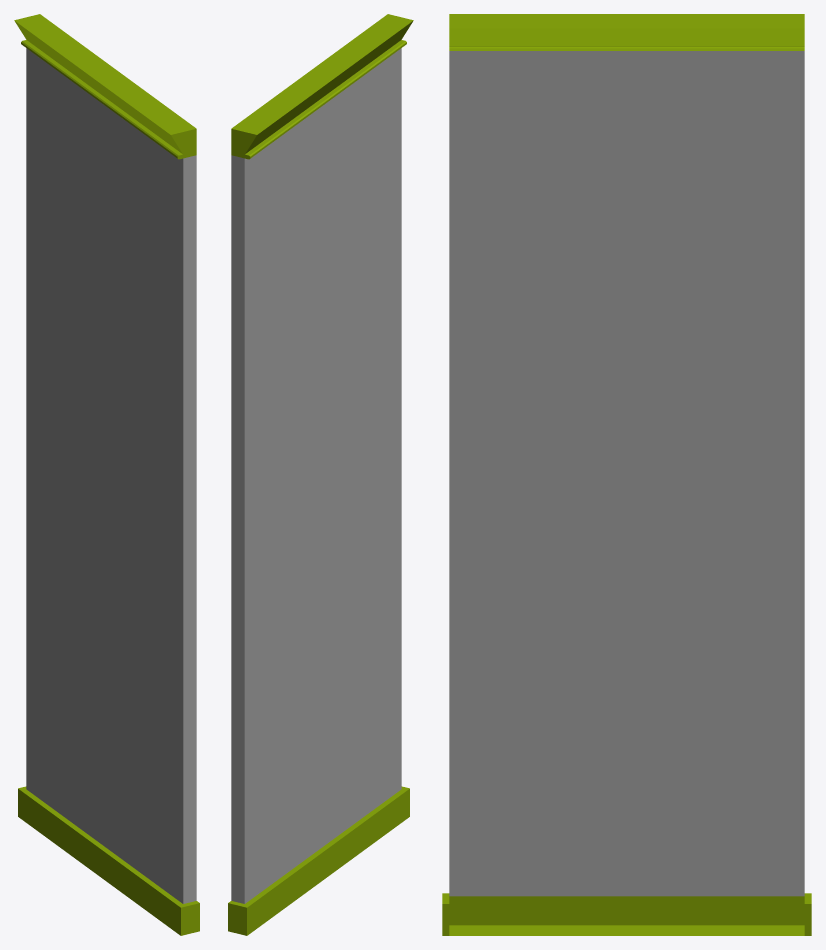
File: Wall_1.fbx
3 views of the same model, side by side, from view 1: azimuth 30°, elevation 25°; view 2: azimuth 150°, elevation 25°; view 3: azimuth 270°, elevation 25° (orthographic). The views are drawn at different scales.
Parts seen in each view (by area): view 1: Wall_1; view 2: Wall_1; view 3: Wall_1.
Boxes of the visible parts, left/top/right/bottom form: Wall_1: left=14, top=14, right=199, bottom=935; Wall_1: left=228, top=14, right=413, bottom=935; Wall_1: left=442, top=14, right=811, bottom=935.
Size of the model in its own units: 0.0955 by 2.82 by 1.04.
